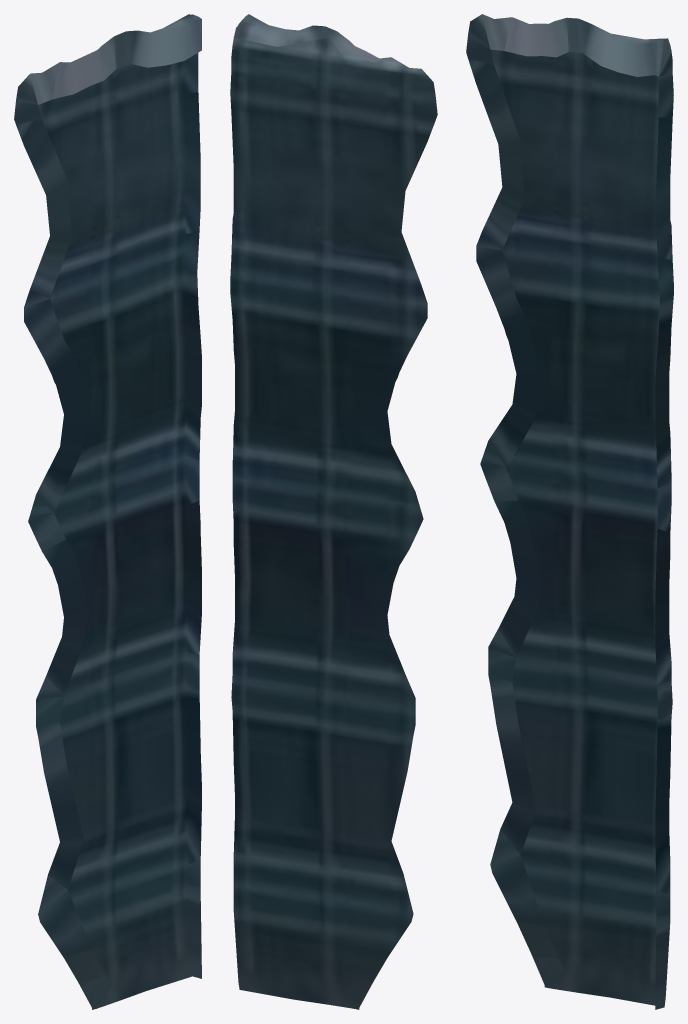
Rendered from z20-167761-405237-h1-yup-uvflip-v3-world.glb.
3 renders of one model, left to right at view 1: azimuth 30°, elevation 25°; view 2: azimuth 150°, elevation 25°; view 3: azimuth 330°, elevation 25°, orthographic.
Bounding box in the file's own units: 3.76 × 18.56 × 0.64.
1 material, 1 textured.
